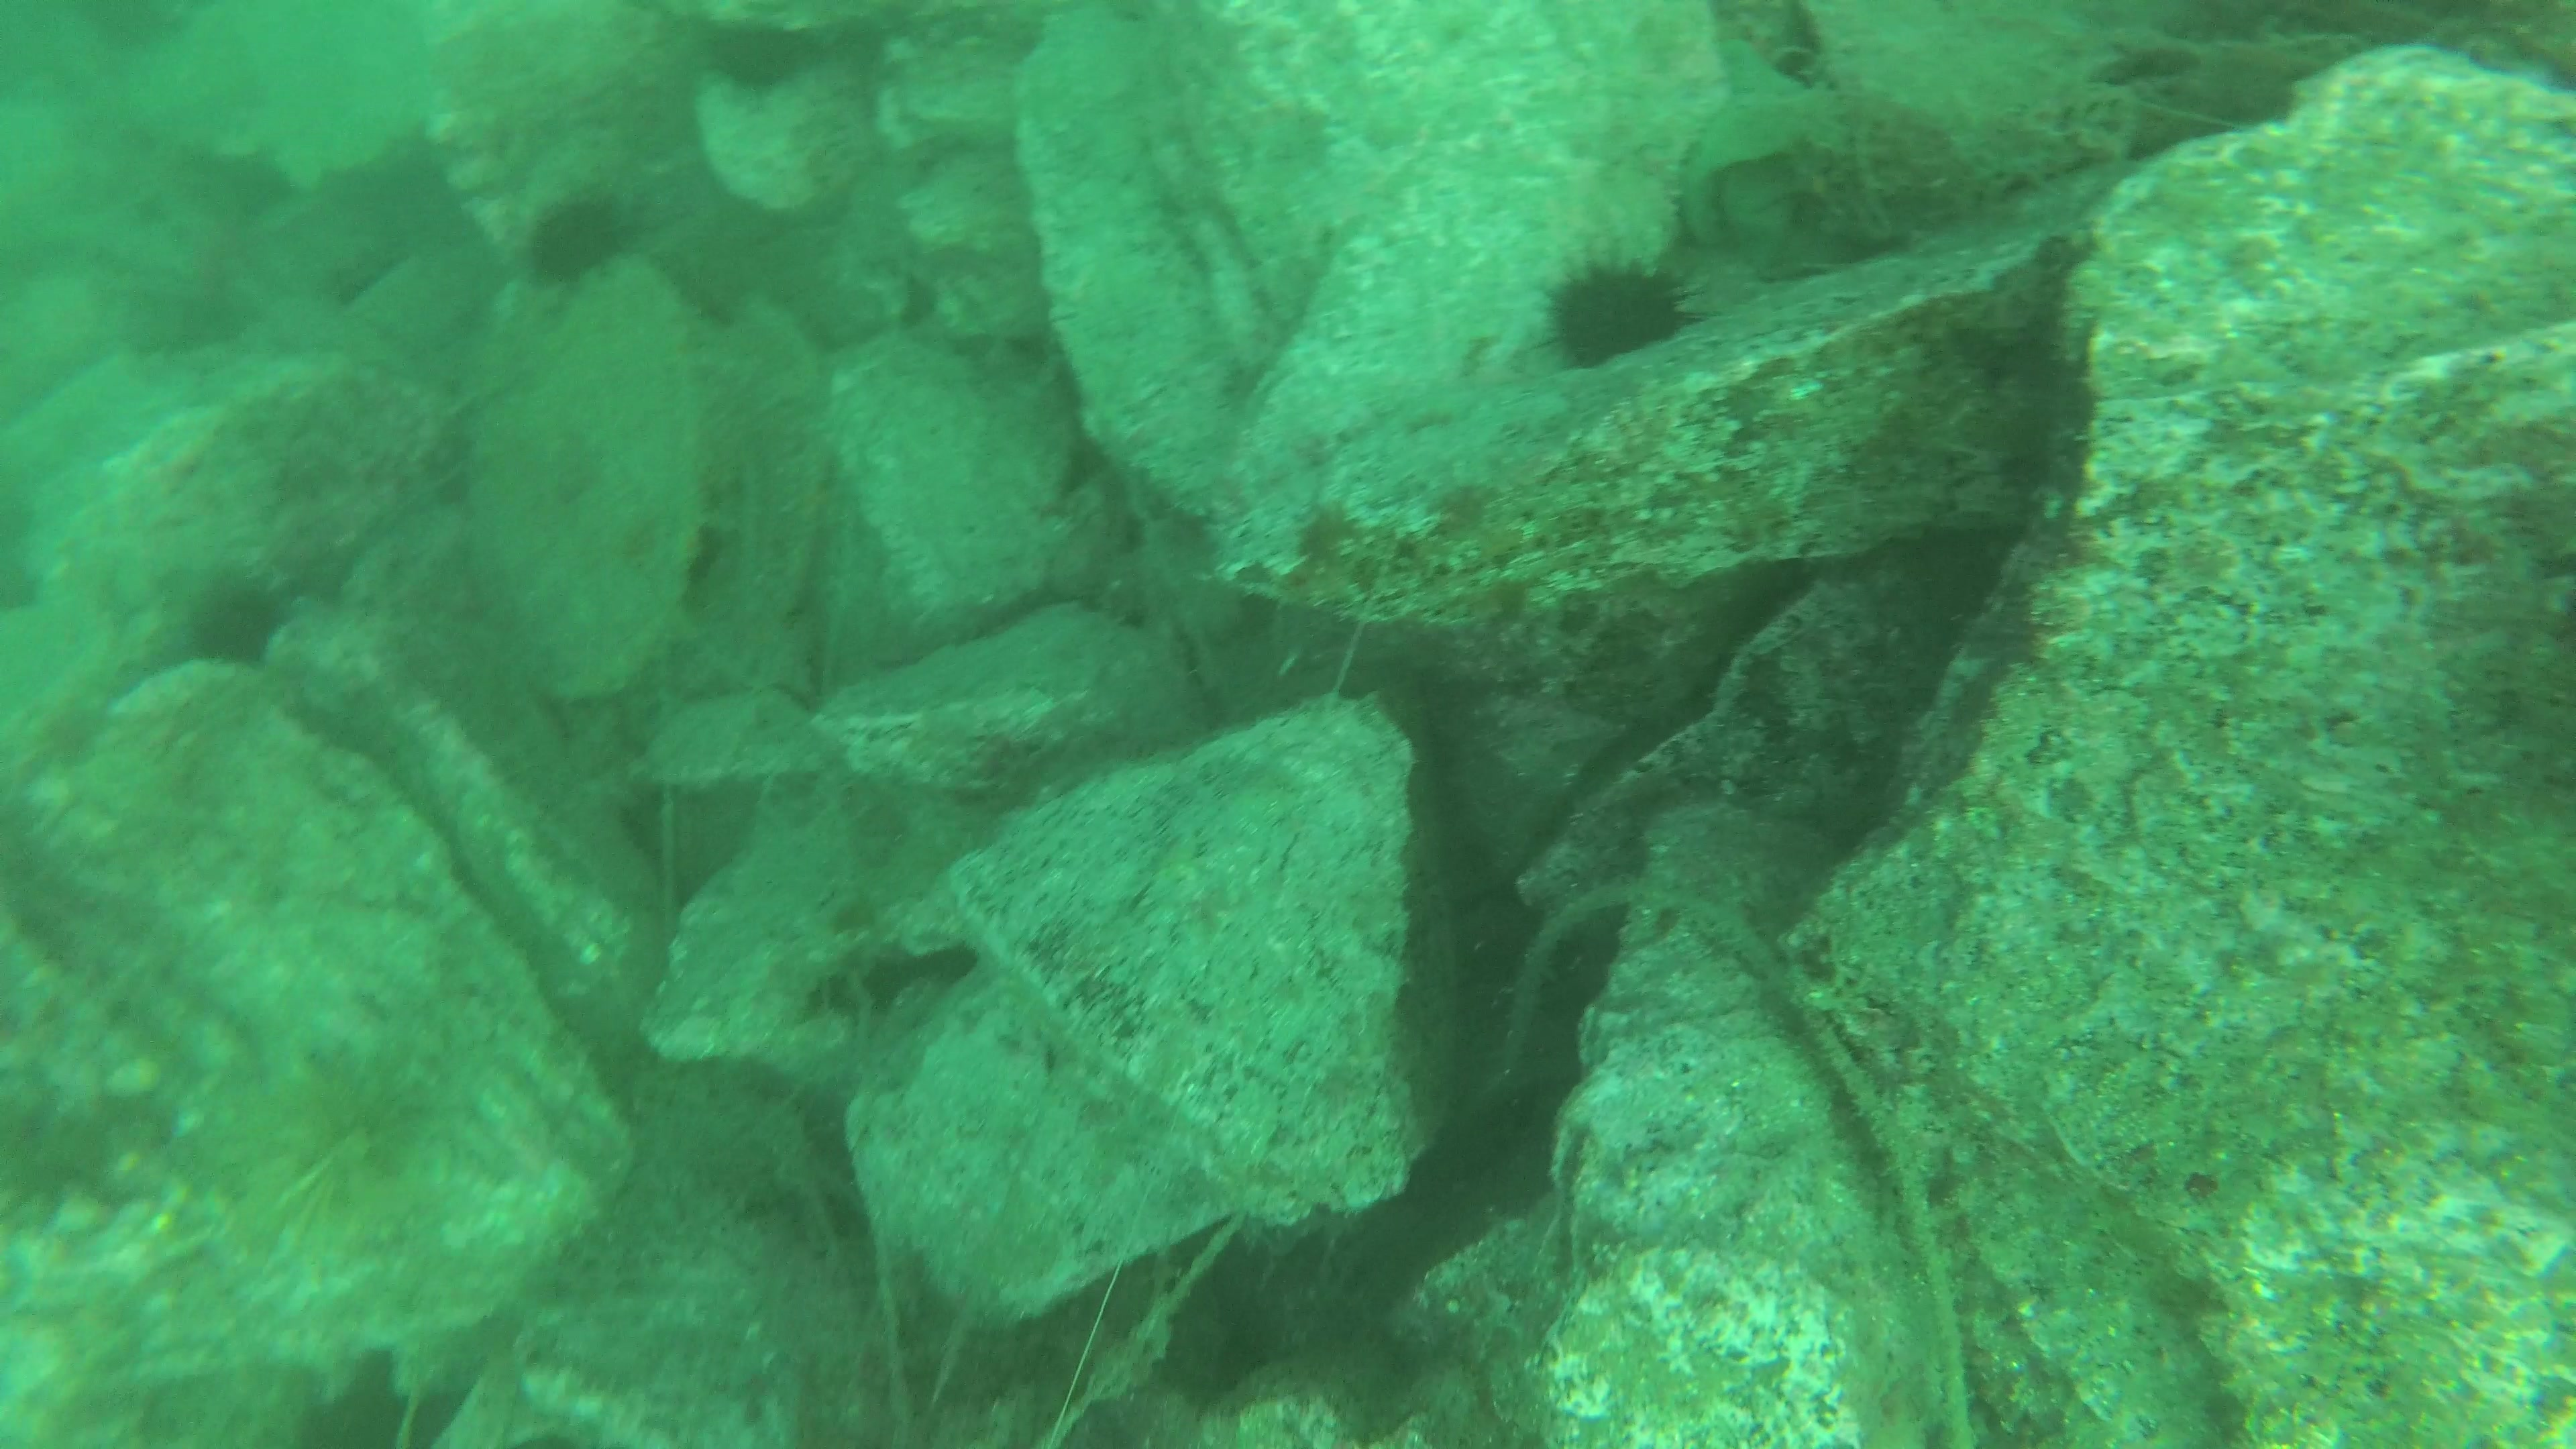echinus: (1527, 258, 1711, 375), (504, 179, 653, 295), (152, 575, 313, 667), (699, 16, 821, 94)
holothurian: (683, 295, 835, 665), (605, 1063, 830, 1226), (157, 1062, 370, 1194)
